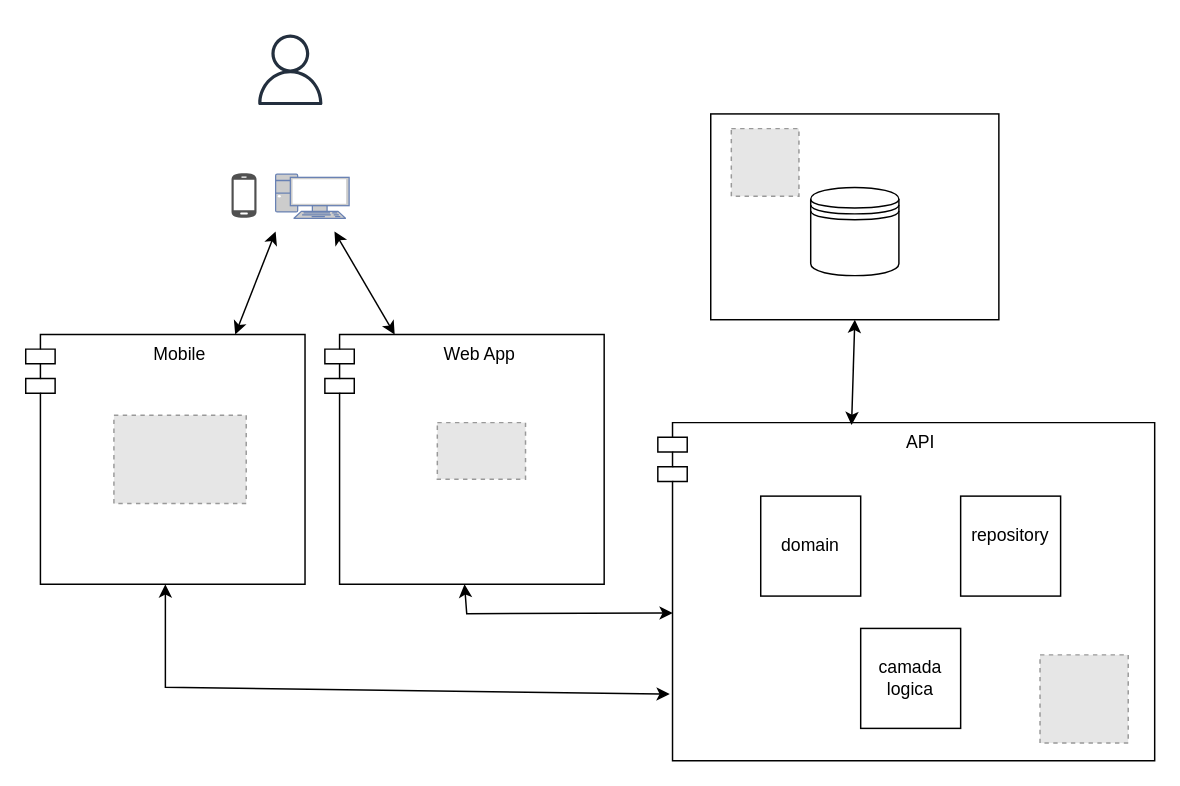
Some shapes in this 1180 by 786 pixel diagram are drawn without their labels. Grey dashed boxes stand in for pictures. Each missing label, with the centre of its shape:
"noSQL" belongs at point 854,231.
"User" belongs at point 289,69.
